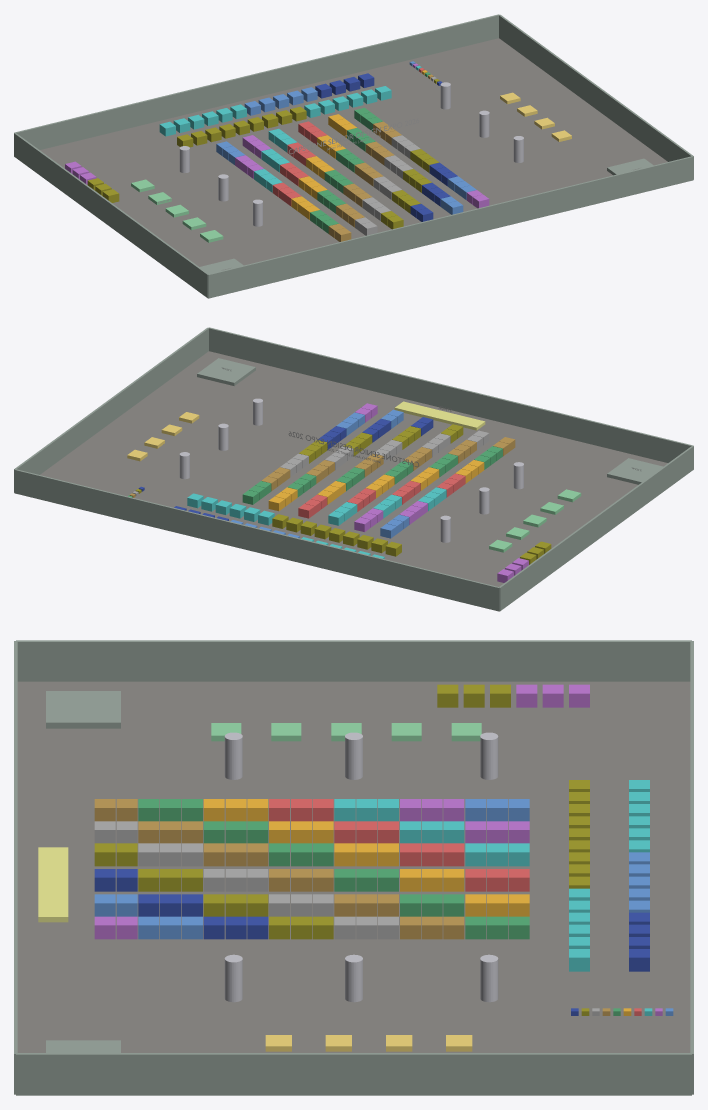
The picture shows the model from 3 angles, top to bottom: view 1: azimuth 30°, elevation 25°; view 2: azimuth 150°, elevation 25°; view 3: azimuth 270°, elevation 25°; orthographic projection. The views are drawn at different scales.
Visible parts, largest first — view 1: Arena_Floor, Wall_S, Wall_N, Wall_W, Wall_E; view 2: Arena_Floor, Wall_N, Wall_S, Wall_W, Wall_E, SORGS_E, Registration, SORGS_W; view 3: Arena_Floor, Wall_E, Wall_W, SORGS_W, Registration, Wall_S, Wall_N, SORGS_E, Pillar_0, Pillar_2, Pillar_3, Pillar_5 (+2 smaller).
Part boxes in pixels (x1,y1,x2,y2): Arena_Floor: (40, 38, 667, 298); Wall_S: (208, 156, 693, 298); Wall_N: (14, 14, 499, 149); Wall_W: (14, 132, 208, 298); Wall_E: (499, 14, 693, 179); Arena_Floor: (40, 351, 667, 611); Wall_N: (14, 469, 499, 611); Wall_S: (208, 327, 693, 462); Wall_W: (499, 445, 693, 611); Wall_E: (14, 327, 208, 492); SORGS_E: (197, 358, 255, 385); Registration: (394, 401, 485, 430); SORGS_W: (607, 458, 662, 484); Arena_Floor: (17, 681, 690, 1052); Wall_E: (16, 1053, 691, 1095); Wall_W: (16, 640, 691, 681); SORGS_W: (46, 691, 120, 728); Registration: (38, 847, 68, 922); Wall_S: (14, 641, 17, 1094); Wall_N: (690, 641, 693, 1094); SORGS_E: (46, 1040, 120, 1052); Pillar_0: (480, 732, 498, 779); Pillar_2: (224, 732, 242, 779); Pillar_3: (480, 954, 498, 1002); Pillar_5: (224, 954, 242, 1002).
Size of the model in its own units: 130 by 9.29 by 90.5.
